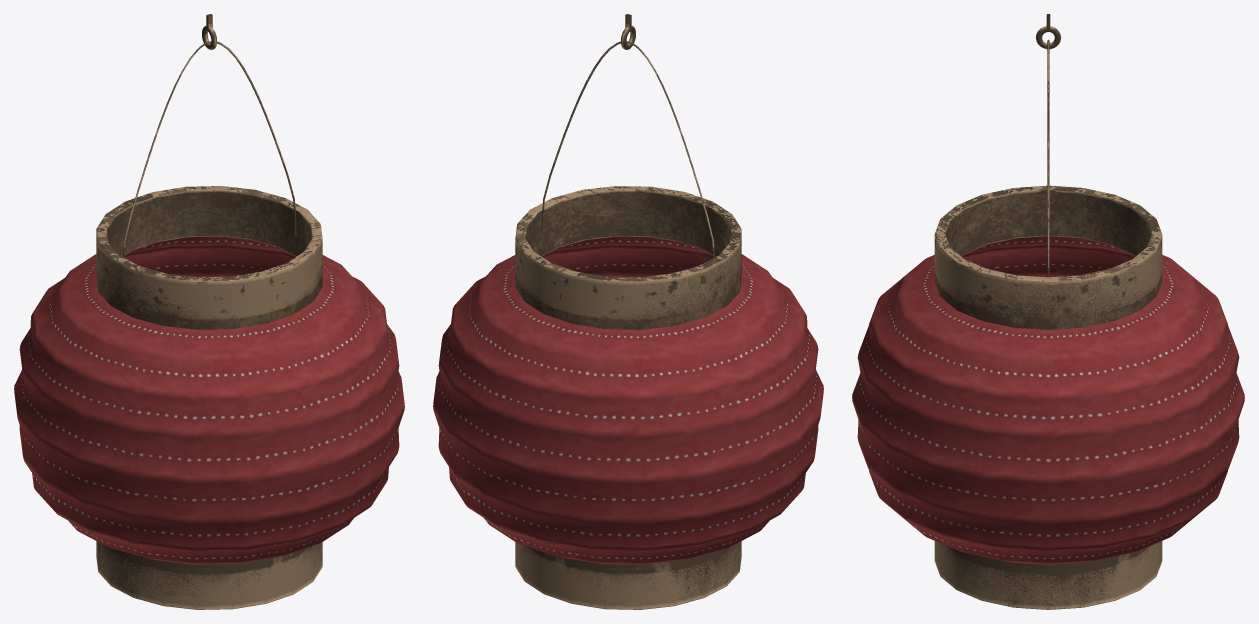
The model's file is paper_lantern.fbx.
The picture shows the model from 3 angles, left to right: view 1: azimuth 30°, elevation 25°; view 2: azimuth 150°, elevation 25°; view 3: azimuth 270°, elevation 25°; orthographic projection.
Visible parts, largest first — view 1: LIGHt; view 2: LIGHt; view 3: LIGHt.
Part boxes in pixels (box(x1,y1,x2,y2)): LIGHt: box(14, 14, 404, 609); LIGHt: box(433, 14, 823, 609); LIGHt: box(852, 14, 1244, 609).
Size of the model in its own units: 37.8 by 58.1 by 37.8.
